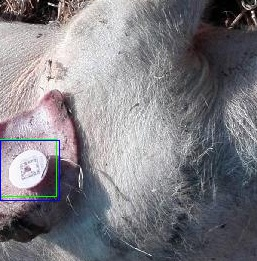text: (0, 139, 56, 196)
